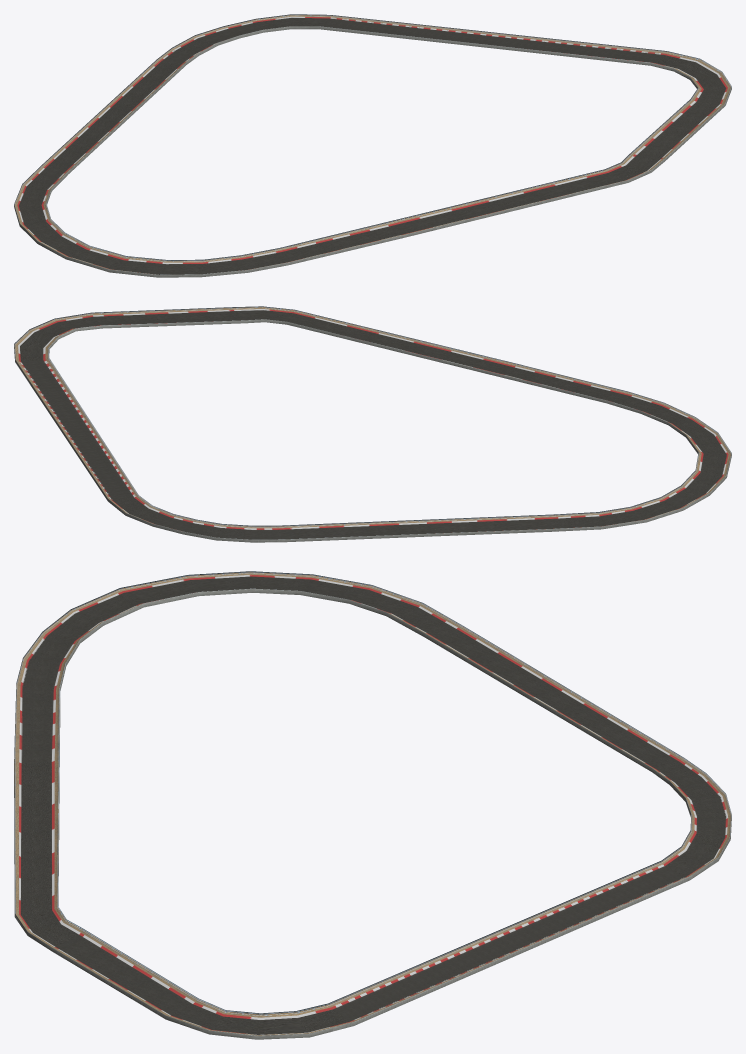
File: pista_nova_1.fbx
The picture shows the model from 3 angles, top to bottom: view 1: azimuth 30°, elevation 25°; view 2: azimuth 150°, elevation 25°; view 3: azimuth 270°, elevation 25°; orthographic projection. The views are drawn at different scales.
Visible parts, largest first — view 1: nurbsToPoly1; view 2: nurbsToPoly1; view 3: nurbsToPoly1.
Part boxes in pixels (x1,y1,x2,y2): nurbsToPoly1: [14, 14, 731, 277]; nurbsToPoly1: [14, 306, 731, 542]; nurbsToPoly1: [14, 571, 731, 1039].
Size of the model in its own units: 243 by 1.36 by 158.
